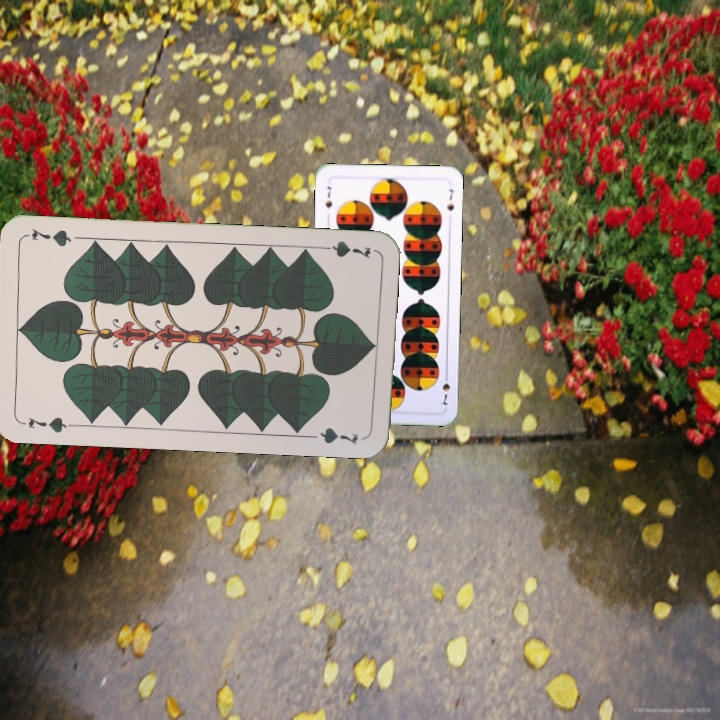G7: (315, 237, 374, 261), (16, 413, 75, 435)
S7: (436, 369, 453, 408), (321, 182, 335, 210)
